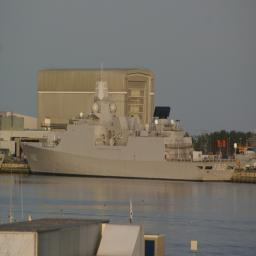Fragata: (20, 59, 240, 186)
